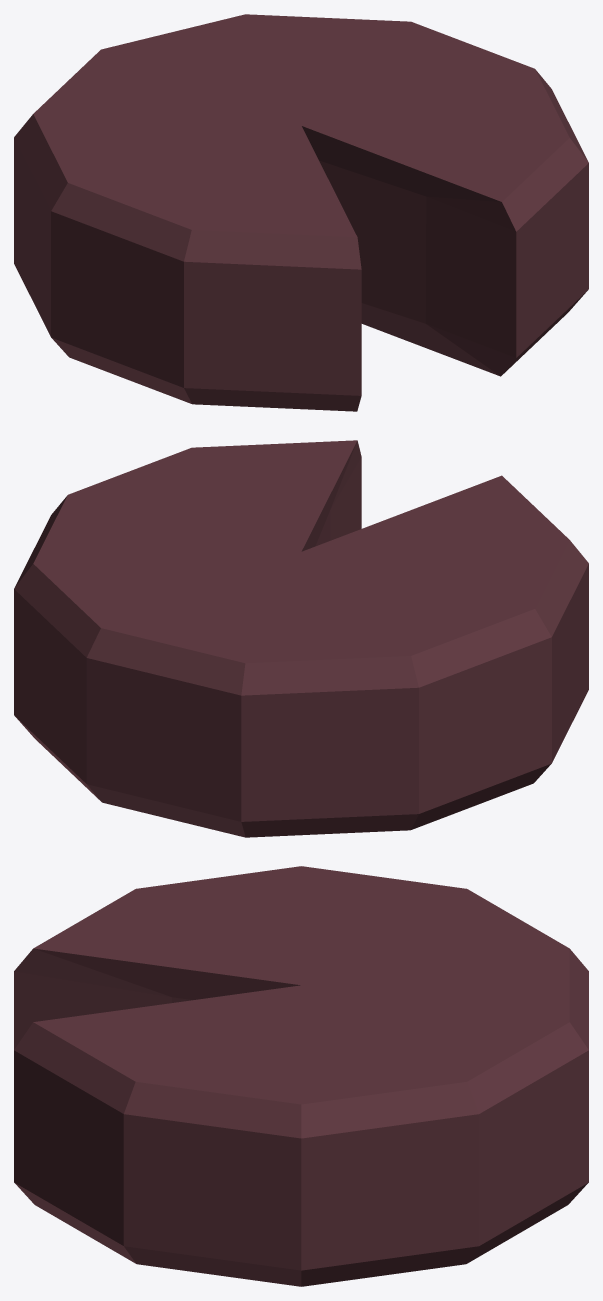
Rendered from cheese-circle.fbx.
3 renders of one model, top to bottom at view 1: azimuth 30°, elevation 25°; view 2: azimuth 150°, elevation 25°; view 3: azimuth 270°, elevation 25°, orthographic. The views are drawn at different scales.
Parts seen in each view (by area): view 1: cheese-circle; view 2: cheese-circle; view 3: cheese-circle.
Part boxes in pixels (x1,y1,x2,y2): cheese-circle: [14, 14, 588, 411]; cheese-circle: [14, 440, 588, 837]; cheese-circle: [14, 866, 588, 1286].
Bounding box in the file's own units: 0.4 × 0.1336 × 0.3804.
